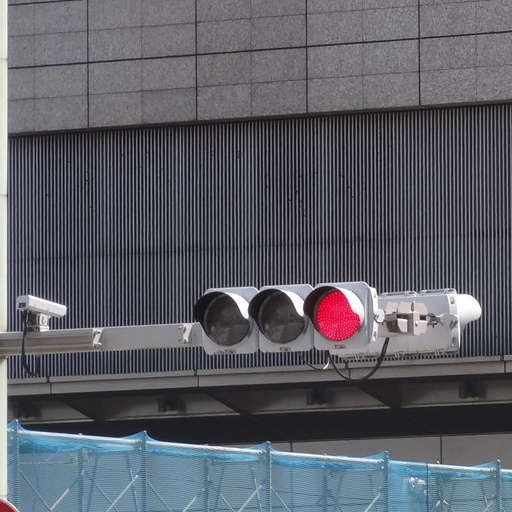Traffic_Signal_Red: (193, 269, 379, 359)
